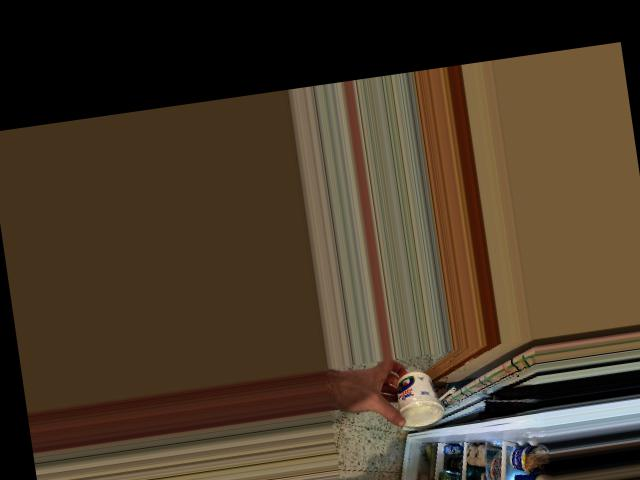cotage: (392, 371, 444, 431)
